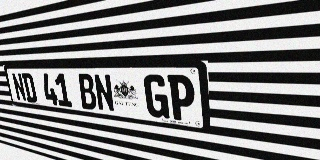1: (53, 73, 72, 107)
4: (41, 73, 59, 106)
B: (77, 74, 98, 110)
D: (21, 73, 38, 103)
G: (143, 74, 170, 119)
N: (93, 74, 115, 112), (11, 73, 27, 102)
P: (167, 75, 196, 122)
